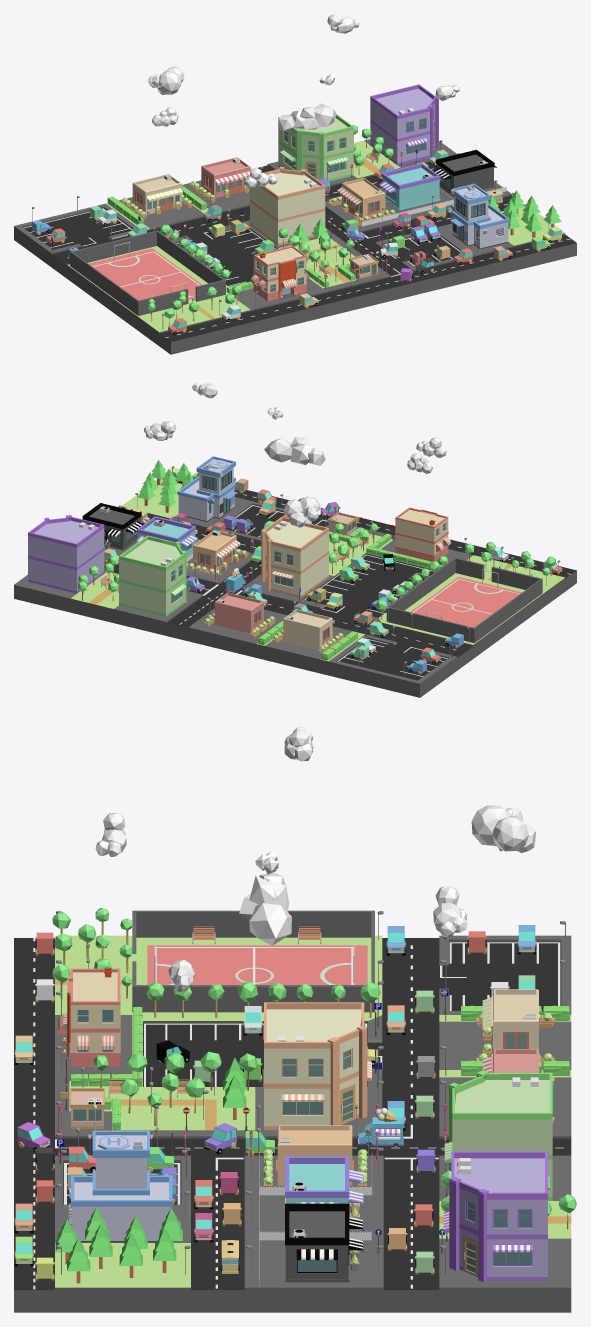
The model's file is city.original.glb.
The picture shows the model from 3 angles, top to bottom: view 1: azimuth 30°, elevation 25°; view 2: azimuth 150°, elevation 25°; view 3: azimuth 270°, elevation 25°; orthographic projection. The views are drawn at different scales.
Visible parts, largest first — view 1: plane_materiale base_0, Cube.002_materiale base_0, vetro.016_materiale base_0, tenda.006_materiale base_0, Sphere.001_materiale base_0, tenda.005_materiale base_0, police station_materiale base_0, pizzeria_materiale base_0, base casa.002_materiale base_0, base casa.003_materiale base_0, Icosphere.008_materiale base_0, vetro.017_materiale base_0 (+12 smaller); view 2: plane_materiale base_0, tenda.006_materiale base_0, Cube.002_materiale base_0, tenda.005_materiale base_0, vetro.016_materiale base_0, Sphere.001_materiale base_0, police station_materiale base_0, pizzeria_materiale base_0, vetro.017_materiale base_0, Icosphere.008_materiale base_0, casa.006_materiale base_0, base casa.003_materiale base_0 (+11 smaller); view 3: plane_materiale base_0, tenda.006_materiale base_0, vetro.016_materiale base_0, Cube.002_materiale base_0, Sphere.001_materiale base_0, tenda.005_materiale base_0, police station_materiale base_0, base casa.003_materiale base_0, pizzeria_materiale base_0, road lines_materiale base_0, Cube.001_materiale base_0, base casa.002_materiale base_0 (+15 smaller).
Part boxes in pixels (box(x1,y1,x2,y2)): plane_materiale base_0: box(14, 139, 576, 354); Cube.002_materiale base_0: box(70, 230, 225, 315); vetro.016_materiale base_0: box(250, 166, 325, 245); tenda.006_materiale base_0: box(370, 84, 438, 165); Sphere.001_materiale base_0: box(148, 14, 459, 188); tenda.005_materiale base_0: box(278, 114, 353, 181); police station_materiale base_0: box(447, 183, 509, 248); pizzeria_materiale base_0: box(250, 245, 309, 301); base casa.002_materiale base_0: box(379, 163, 441, 210); base casa.003_materiale base_0: box(433, 149, 496, 196); Icosphere.008_materiale base_0: box(121, 174, 192, 219); vetro.017_materiale base_0: box(189, 157, 250, 202); plane_materiale base_0: box(14, 478, 576, 697); tenda.006_materiale base_0: box(28, 515, 104, 593); Cube.002_materiale base_0: box(386, 557, 542, 643); tenda.005_materiale base_0: box(119, 535, 186, 616); vetro.016_materiale base_0: box(261, 516, 328, 597); Sphere.001_materiale base_0: box(144, 383, 446, 527); police station_materiale base_0: box(177, 456, 237, 521); pizzeria_materiale base_0: box(392, 507, 451, 561); vetro.017_materiale base_0: box(204, 592, 275, 637); Icosphere.008_materiale base_0: box(272, 609, 344, 654); casa.006_materiale base_0: box(186, 530, 247, 578); base casa.003_materiale base_0: box(82, 503, 143, 550); plane_materiale base_0: box(14, 935, 571, 1312); tenda.006_materiale base_0: box(443, 1151, 547, 1282); vetro.016_materiale base_0: box(264, 1002, 371, 1130); Cube.002_materiale base_0: box(132, 910, 374, 1012); Sphere.001_materiale base_0: box(95, 726, 535, 992); tenda.005_materiale base_0: box(444, 1070, 552, 1200); police station_materiale base_0: box(68, 1129, 172, 1242); base casa.003_materiale base_0: box(285, 1203, 363, 1282); pizzeria_materiale base_0: box(57, 968, 120, 1066); road lines_materiale base_0: box(33, 938, 563, 1289); Cube.001_materiale base_0: box(55, 1207, 182, 1283); base casa.002_materiale base_0: box(285, 1156, 363, 1219).
Size of the model in its own units: 128 by 56.28 by 86.81.
8 materials, 4 textured.
